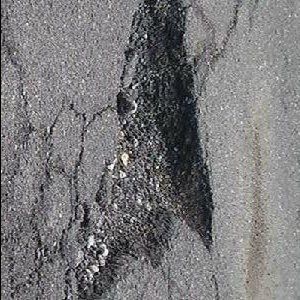pothole: (62, 0, 218, 300)
